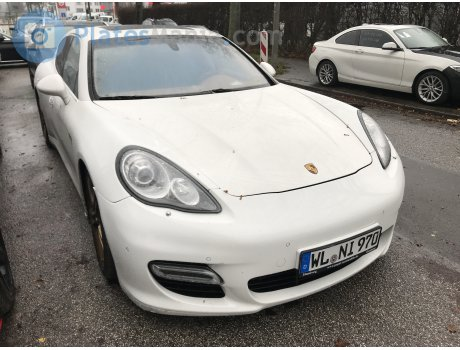License Plates: (309, 228, 397, 266)
